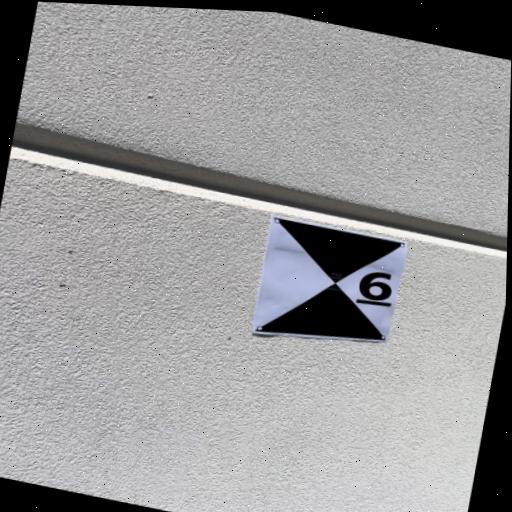target6: (253, 214, 404, 342)
